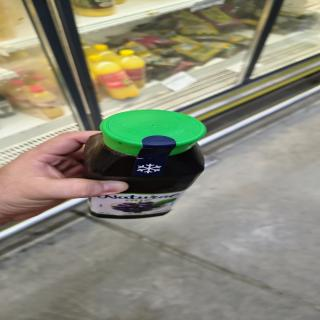Juice: (84, 110, 208, 224)
